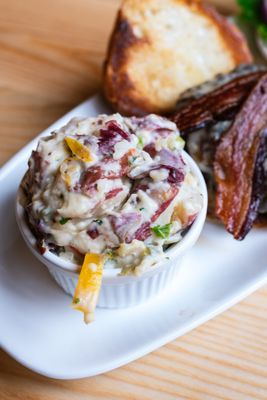soup: (100, 0, 253, 116)
